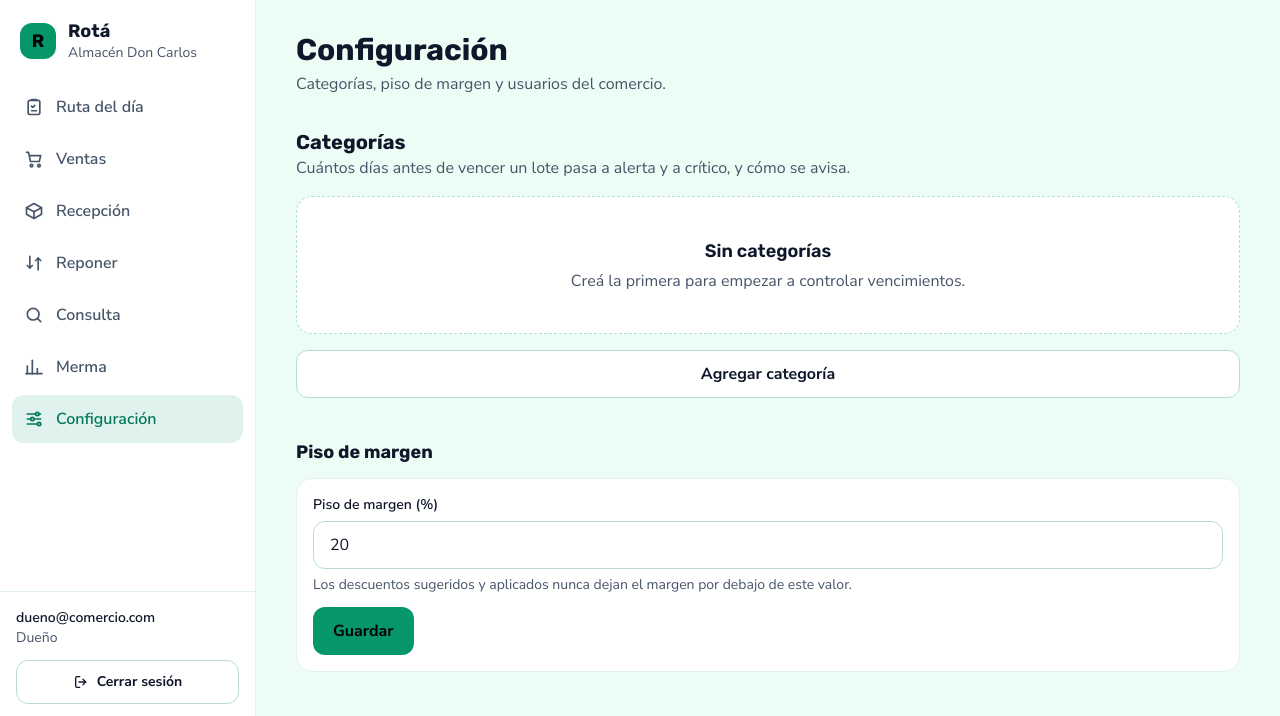
Test case: Piso de margen (HU-19) › rechaza un margen mayor al 95%
Replace the text in the field labelled "Piso de margen (%)" with "99". click: coordinates (768, 545)
box: x1=313 y1=521 x2=1223 y2=569
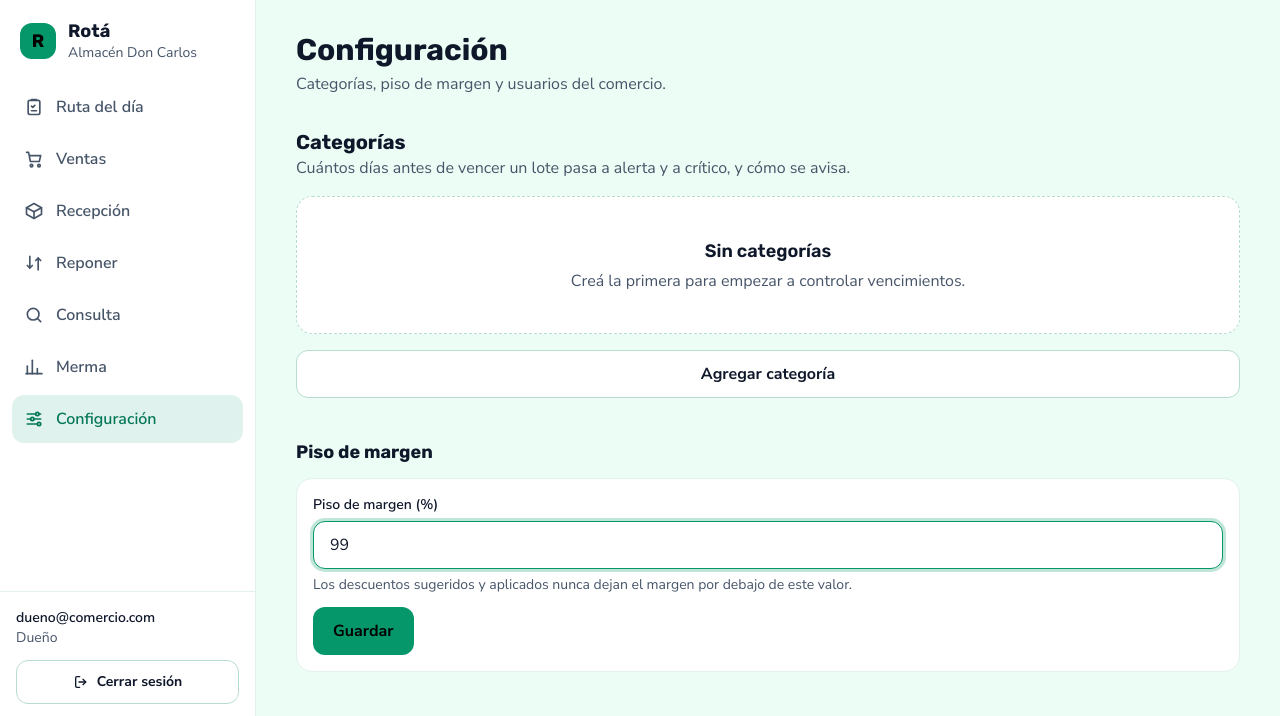
Click the button "Guardar". click: coordinates (363, 631)
box: x1=313 y1=607 x2=414 y2=655
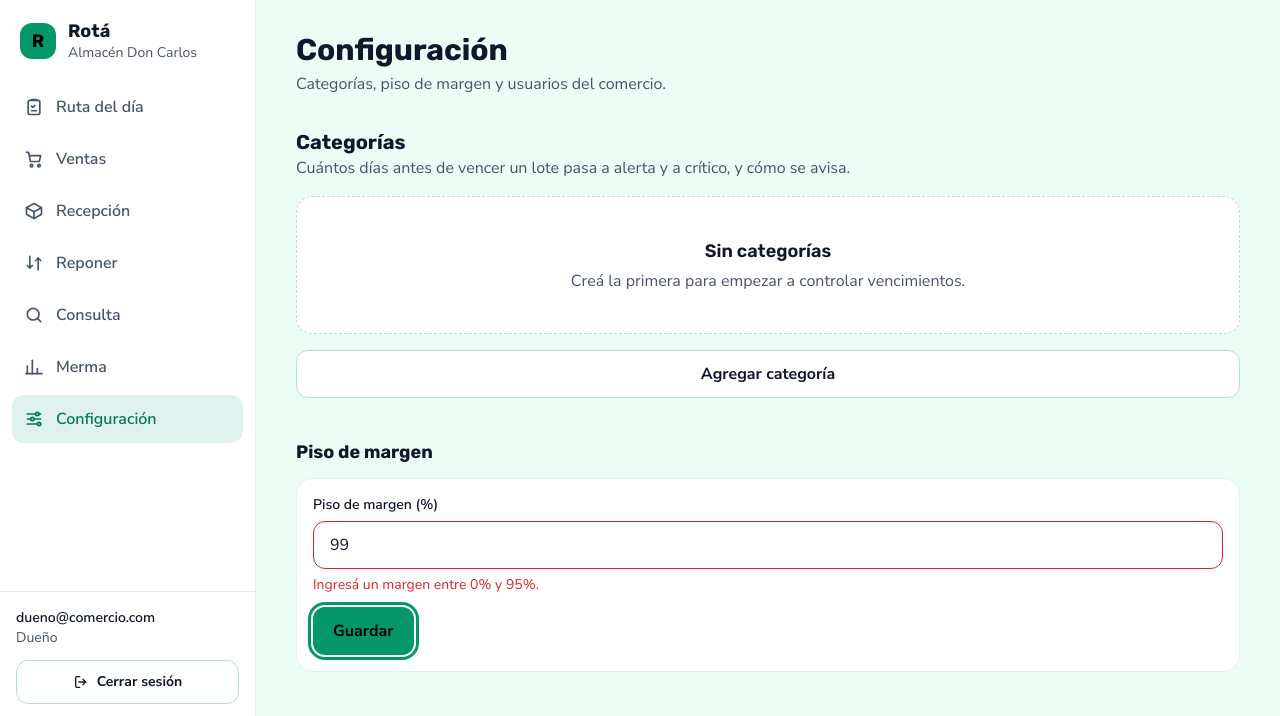
expect the text "Ingresá un margen entre 0% y 95%." is shown: met, box x1=313 y1=575 x2=539 y2=594
